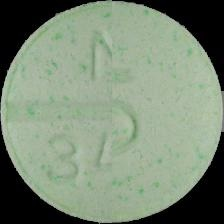0093-8344: (0, 0, 224, 224)
